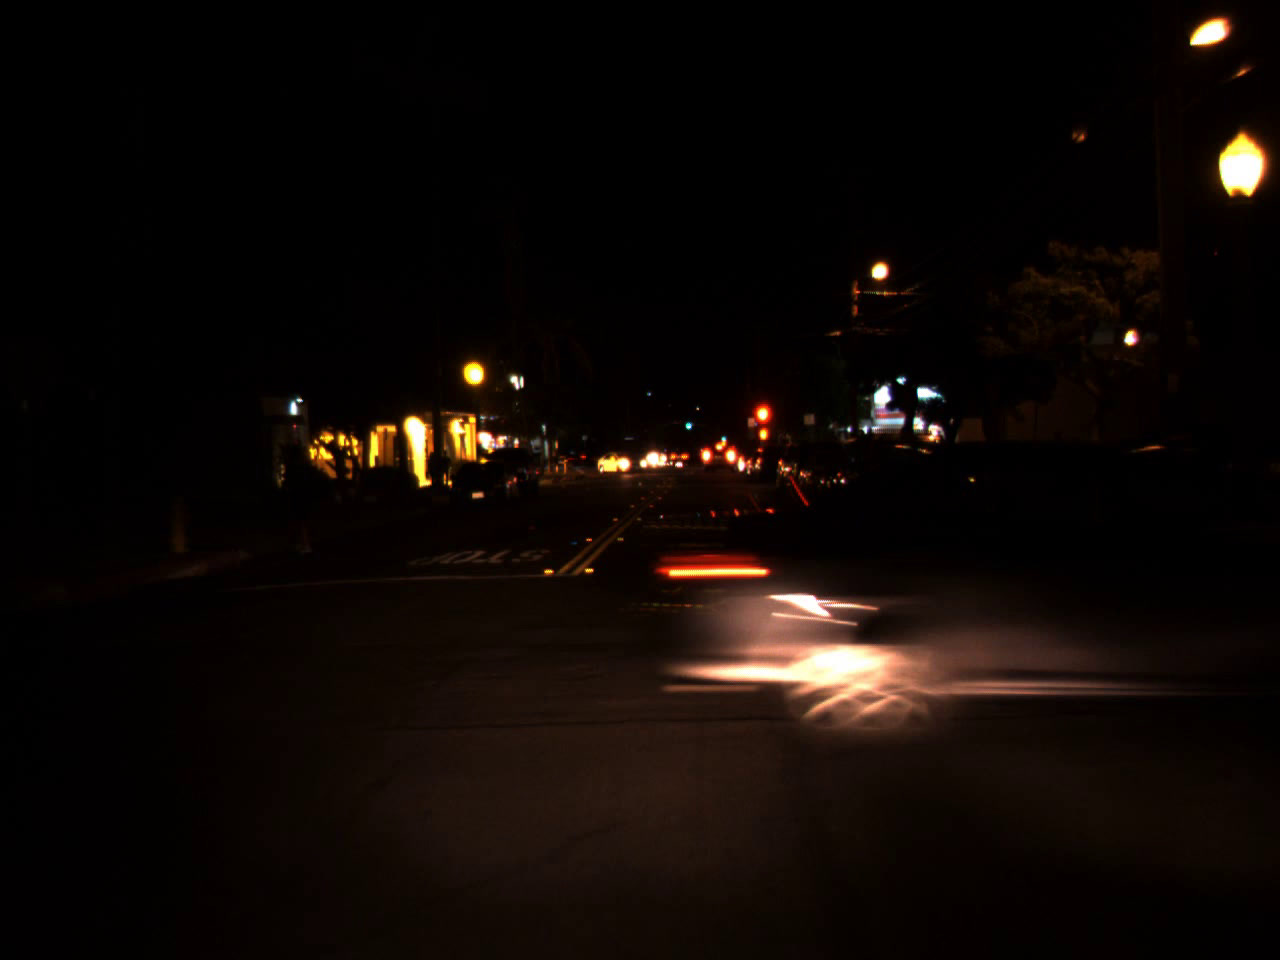go: (683, 415, 692, 430), (719, 431, 726, 443)
stop: (751, 400, 773, 451)
